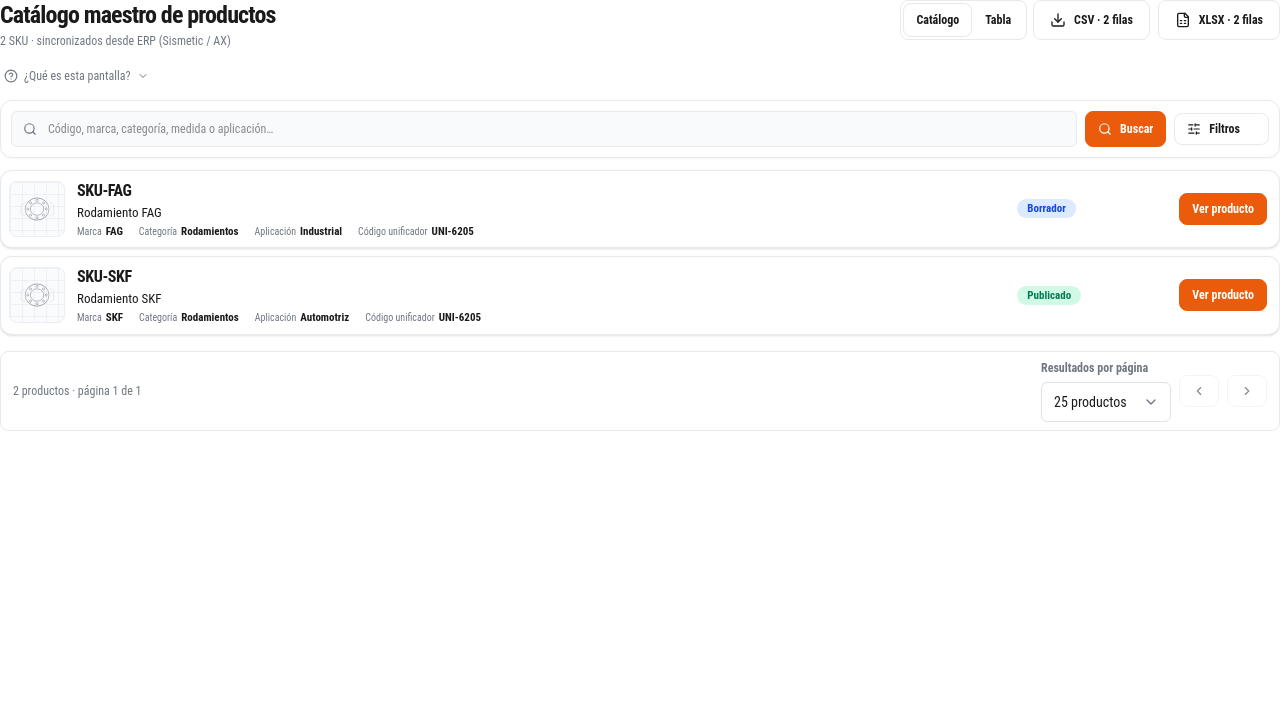
ProductsCatalog table view › collapses advanced filters without losing their values or active count
expect the link "SKU-FAG" is shown: met, box [77, 178, 132, 202]
Click the button "Filtros" at (1222,128), box [1174, 112, 1269, 144]
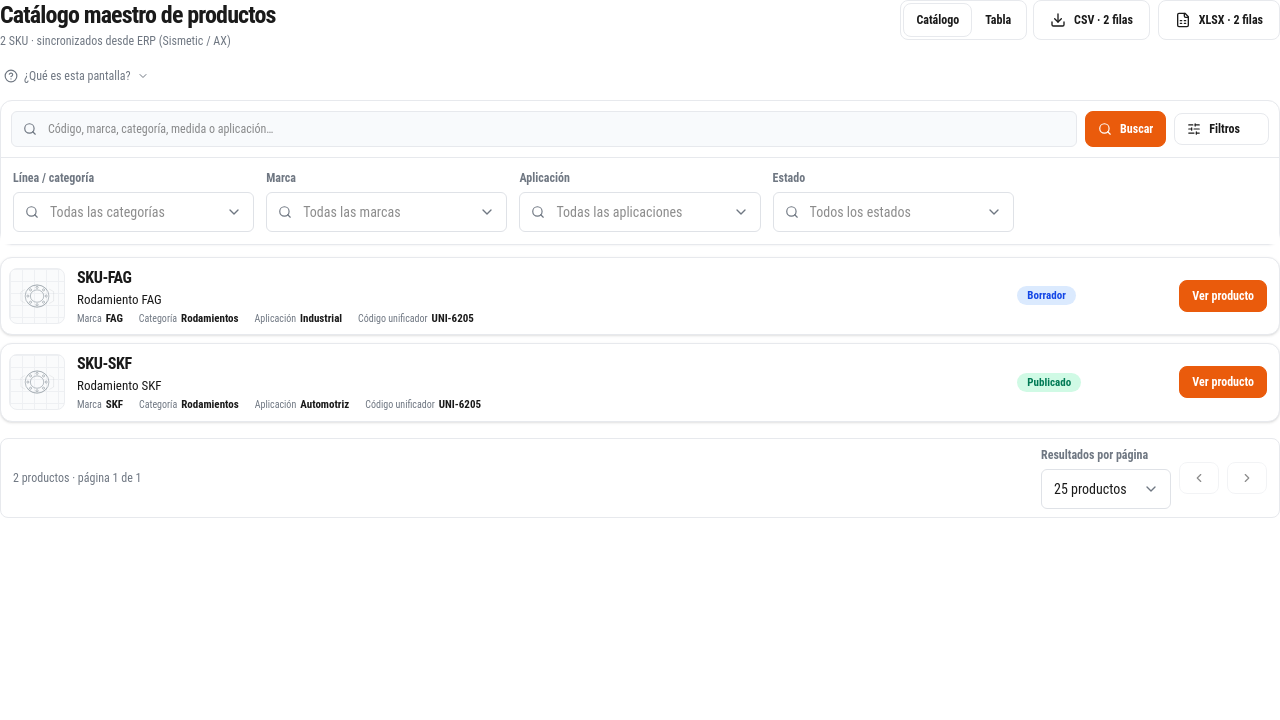
Focus the dropdown labelled "Marca" at (387,212), box [266, 192, 507, 232]
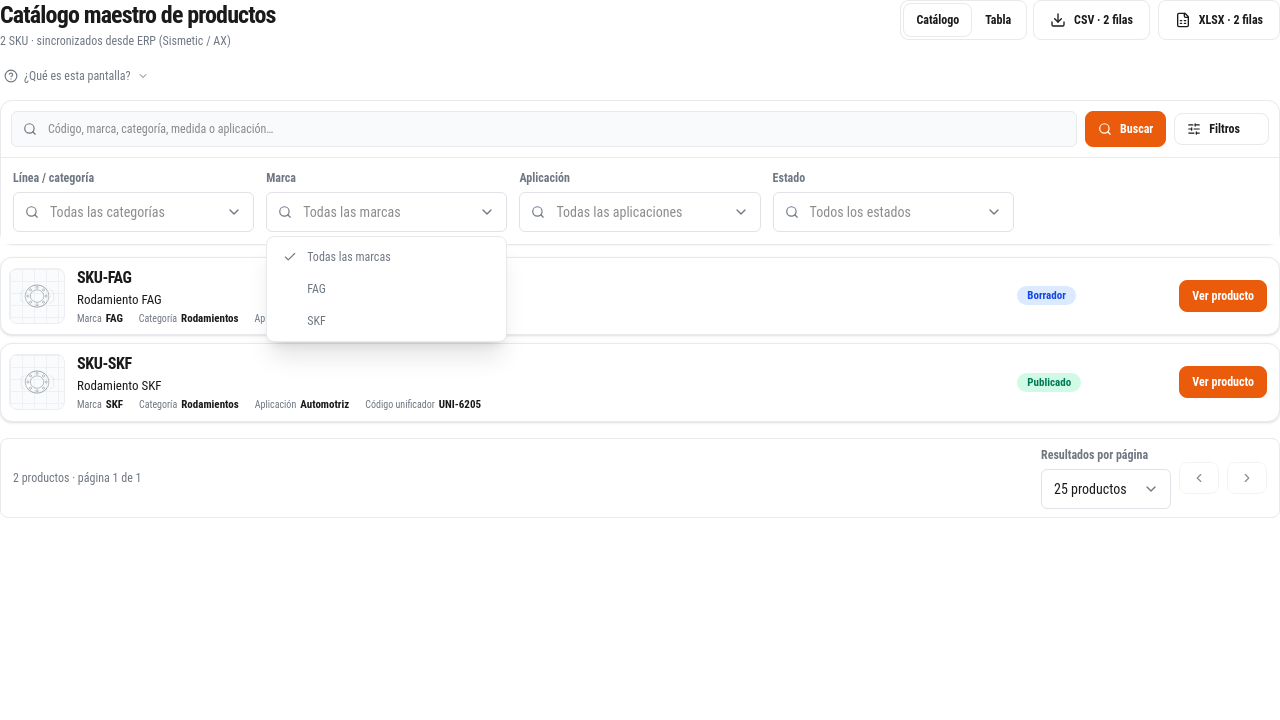
Click the option "FAG" at (387,288), box [271, 272, 502, 304]
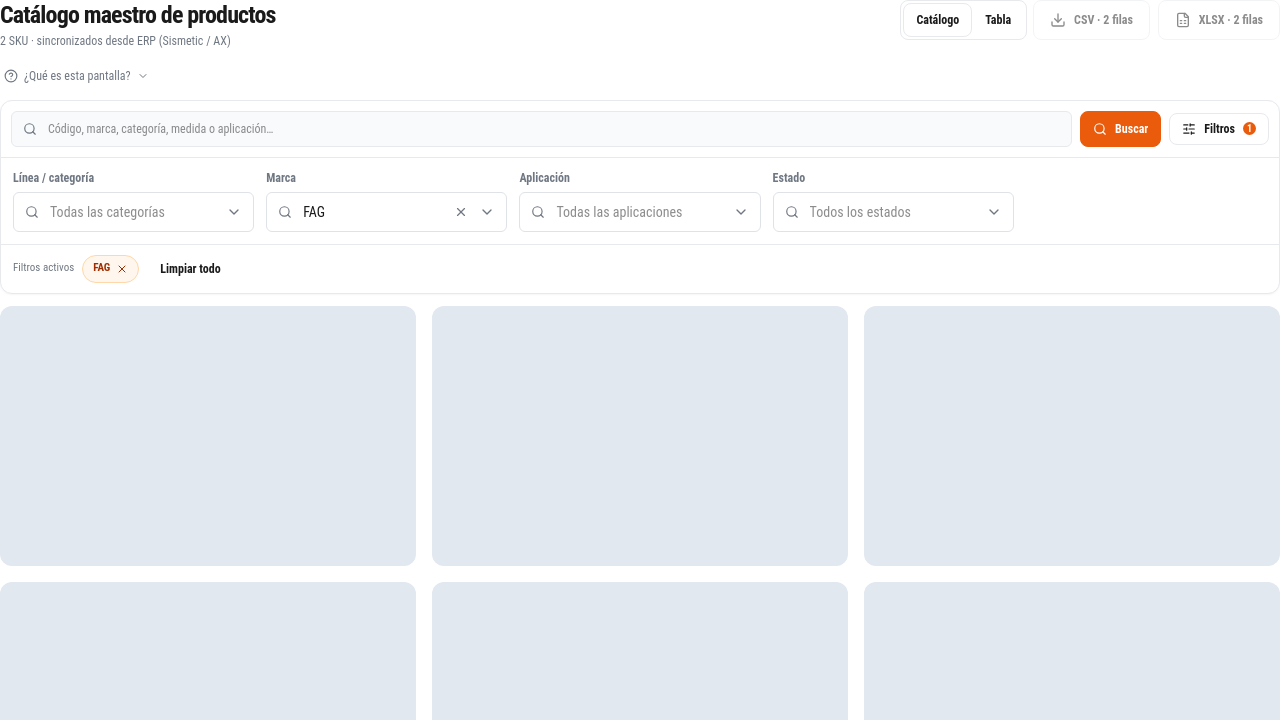
Click the button "Filtros 1" at (1219,128), box [1169, 112, 1269, 144]
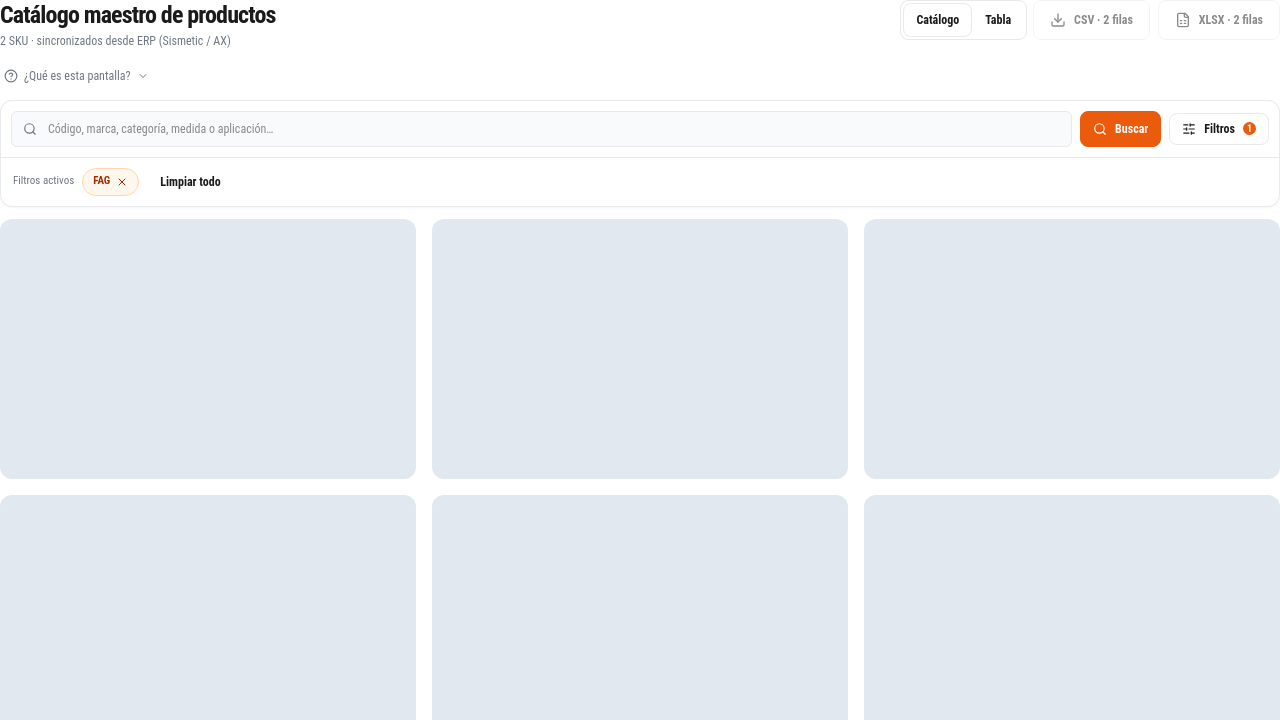
Click the button "Filtros 1" at (1219,128), box [1169, 112, 1269, 144]
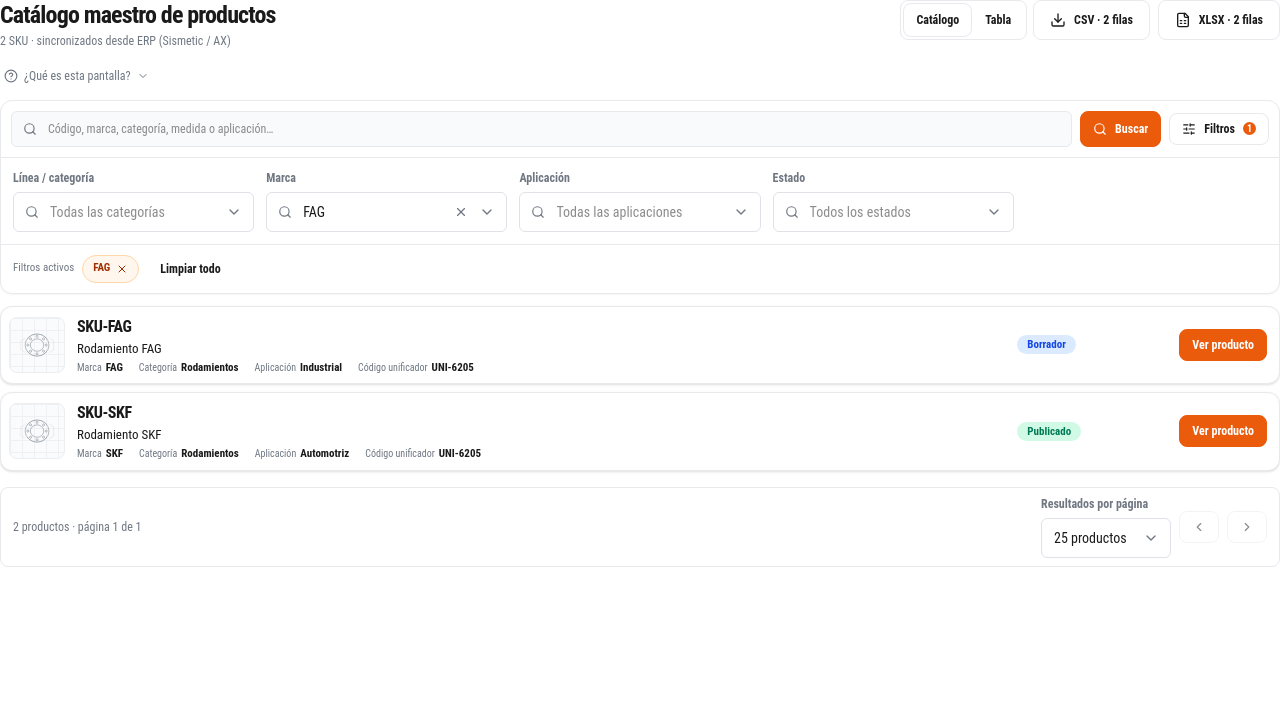
expect the dropdown labelled "Marca" holds "FAG": met, box [266, 192, 507, 232]
